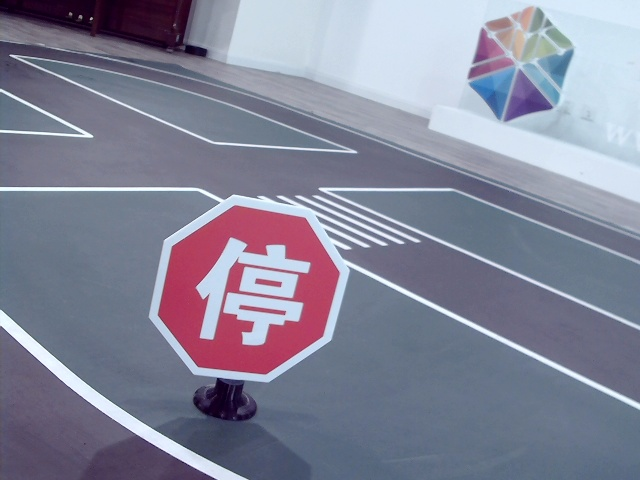stop: (200, 233, 307, 346)
